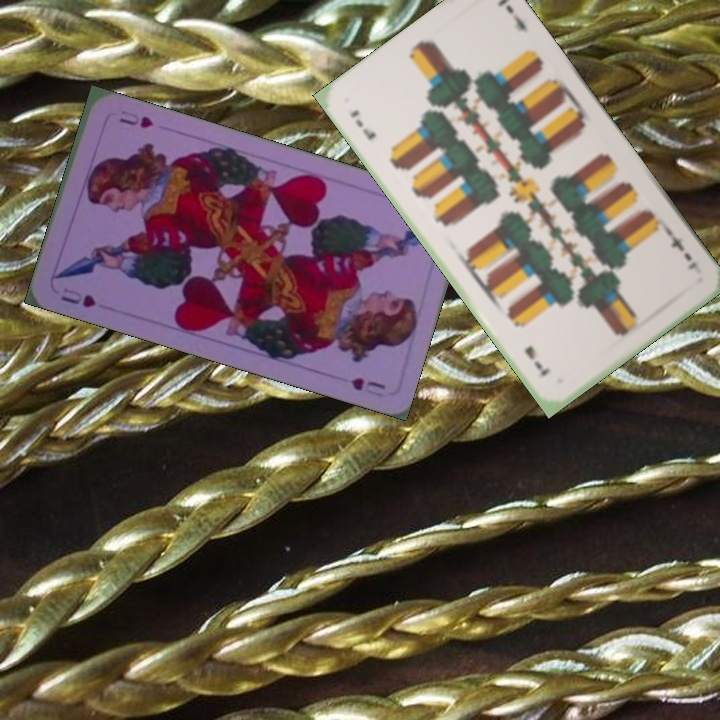E7: (662, 225, 700, 273), (346, 106, 379, 143)
HU: (56, 283, 98, 311)
